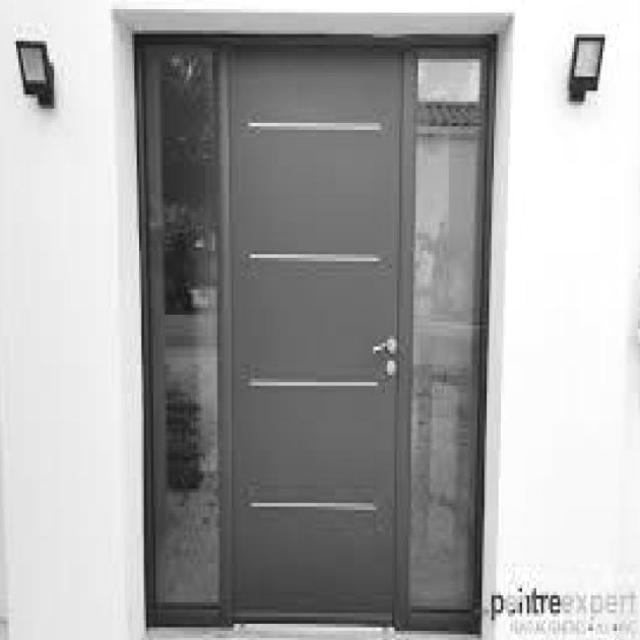door: (220, 40, 409, 627)
